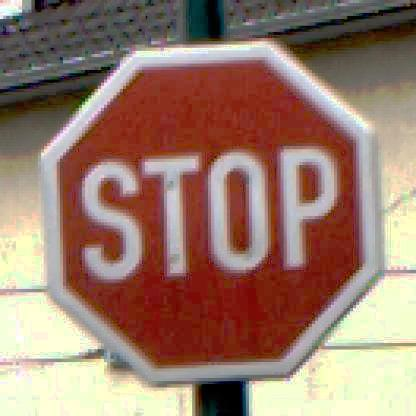Stop Sign: (37, 38, 383, 384)
